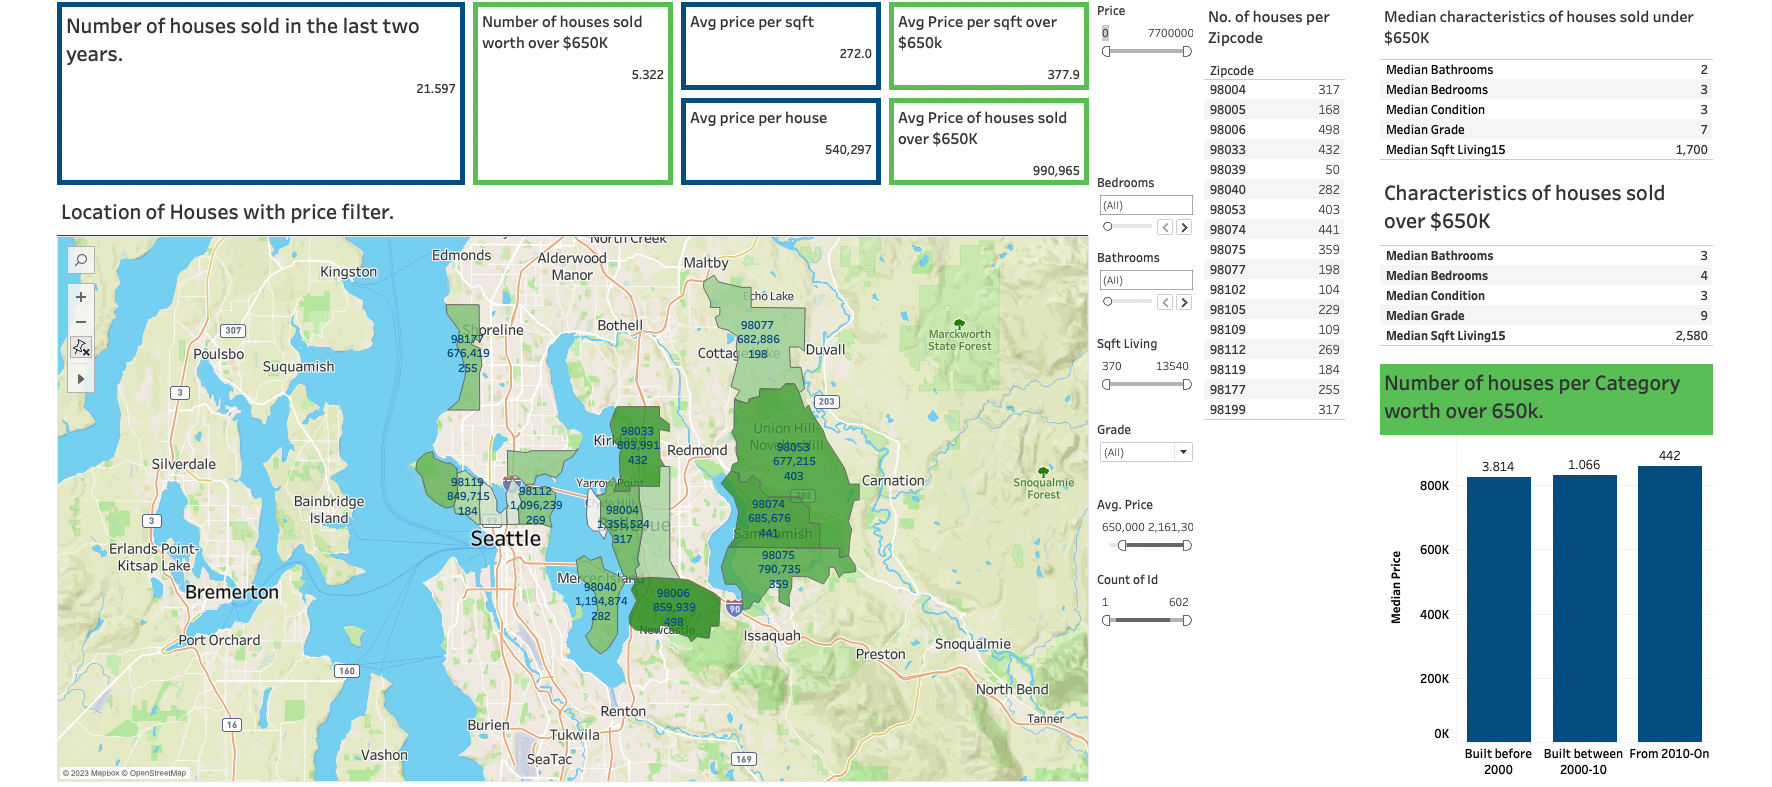

The dashboard page shown, as its layout file describes it:
{"tool":"tableau","page":{"name":"Dashboard 1","canvas":[1712,1988],"ordinal":0},"visuals":[{"type":"worksheet","title":"Sheet 22","mark":"Automatic","box":[8,8,416,191]},{"type":"worksheet","title":"Sheet 21","mark":"Automatic","box":[424,8,208,191]},{"type":"worksheet","title":"Avg price per sqft","mark":"Automatic","box":[631.9,8,208,96]},{"type":"worksheet","title":"Sheet 26","mark":"Automatic","box":[840,8,208,96]},{"type":"filter","title":"Locations of Houses worth over 650k with avg price per Zipcode.","param":"[federated.1hytt741uwrxpt18elqzm1fpk0h4].[none:price:qk]","box":[1048,8,107,172]},{"type":"worksheet","title":"Sheet 27","mark":"Automatic","rows":["zipcode"],"box":[1155,8,176,788]},{"type":"worksheet","title":"Sheet 25","mark":"Automatic","box":[1331,8,341,166]},{"type":"highlighter","title":"Locations of Houses worth over 650k with avg price per Zipcode.","param":"[federated.1hytt741uwrxpt18elqzm1fpk0h4].[none:condition:ok]","box":[1672,8,32,52]},{"type":"worksheet","title":"Avg Price.","mark":"Automatic","box":[631.9,104,208,95]},{"type":"worksheet","title":"Sheet 23","mark":"Automatic","box":[840,104,208,95]},{"type":"filter","title":"Locations of Houses worth over 650k with avg price per Zipcode.","param":"[federated.1hytt741uwrxpt18elqzm1fpk0h4].[none:bedrooms:ok]","box":[1048,180,107,75]},{"type":"worksheet","title":"Sheet 24","mark":"Automatic","box":[1331,180,341,190]},{"type":"worksheet","title":"Locations of Houses worth over 650k with avg price per Zipcode.","mark":"Multipolygon","box":[8,199,1040,597]},{"type":"filter","title":"Locations of Houses worth over 650k with avg price per Zipcode.","param":"[federated.1hytt741uwrxpt18elqzm1fpk0h4].[none:bathrooms:ok]","box":[1048,255,107,86]},{"type":"filter","title":"Locations of Houses worth over 650k with avg price per Zipcode.","param":"[federated.1hytt741uwrxpt18elqzm1fpk0h4].[none:sqft_living:qk]","box":[1048,341,107,86]},{"type":"worksheet","title":"Number of houses per Category worth over 650k.","mark":"Automatic","rows":["price"],"cols":["Calculation_5685301994961215489"],"box":[1331,370,341,426]},{"type":"filter","title":"Locations of Houses worth over 650k with avg price per Zipcode.","param":"[federated.1hytt741uwrxpt18elqzm1fpk0h4].[none:grade:ok]","box":[1048,427,107,75]},{"type":"filter","title":"Locations of Houses worth over 650k with avg price per Zipcode.","param":"[federated.1hytt741uwrxpt18elqzm1fpk0h4].[avg:price:qk]","box":[1048,502,107,75]},{"type":"filter","title":"Locations of Houses worth over 650k with avg price per Zipcode.","param":"[federated.1hytt741uwrxpt18elqzm1fpk0h4].[cnt:id:qk]","box":[1048,577,107,219]},{"type":"worksheet","title":"Avg Price Vs","mark":"Bar","rows":["price"],"cols":["Calculation_5685301995647258627"],"box":[8,796,831.9,596]},{"type":"worksheet","title":"Price correlation Vs","mark":"Automatic","rows":["Calculation_5685301995655569413"],"cols":["price"],"box":[839.9,796,832.1,596]},{"type":"parameter","param":"[Parameters].[Parameter 1]","box":[272,807,160,29]},{"type":"parameter","param":"[Parameters].[Parameter 2]","box":[1035,809,160,44]},{"type":"worksheet","title":"Most sold no of bedroom","mark":"Automatic","rows":["id"],"cols":["bedrooms"],"box":[8,1392,832,588]},{"type":"worksheet","title":"House price trend on year built (only 3 or 4 bedrooms)","mark":"Automatic","rows":["price"],"cols":["yr_built"],"box":[840,1392,832,588]},{"type":"text","box":[411,1436,416,52]}]}

Visuals, with their boxes on the page's 1712x1988 design canvas (x1, y1, x2, y2). These are canvas units, not pixel positions in the 1772x787 screenshot, which may show the page scaled, cropped or inside an application window:
"Sheet 22" worksheet: [left=8, top=8, right=424, bottom=199]
"Sheet 21" worksheet: [left=424, top=8, right=632, bottom=199]
"Avg price per sqft" worksheet: [left=632, top=8, right=840, bottom=104]
"Sheet 26" worksheet: [left=840, top=8, right=1048, bottom=104]
"Locations of Houses worth over 650k with avg price per Zipcode." filter: [left=1048, top=8, right=1155, bottom=180]
"Sheet 27" worksheet: [left=1155, top=8, right=1331, bottom=796]
"Sheet 25" worksheet: [left=1331, top=8, right=1672, bottom=174]
"Locations of Houses worth over 650k with avg price per Zipcode." highlighter: [left=1672, top=8, right=1704, bottom=60]
"Avg Price." worksheet: [left=632, top=104, right=840, bottom=199]
"Sheet 23" worksheet: [left=840, top=104, right=1048, bottom=199]
"Locations of Houses worth over 650k with avg price per Zipcode." filter: [left=1048, top=180, right=1155, bottom=255]
"Sheet 24" worksheet: [left=1331, top=180, right=1672, bottom=370]
"Locations of Houses worth over 650k with avg price per Zipcode." worksheet (Multipolygon marks): [left=8, top=199, right=1048, bottom=796]
"Locations of Houses worth over 650k with avg price per Zipcode." filter: [left=1048, top=255, right=1155, bottom=341]
"Locations of Houses worth over 650k with avg price per Zipcode." filter: [left=1048, top=341, right=1155, bottom=427]
"Number of houses per Category worth over 650k." worksheet: [left=1331, top=370, right=1672, bottom=796]
"Locations of Houses worth over 650k with avg price per Zipcode." filter: [left=1048, top=427, right=1155, bottom=502]
"Locations of Houses worth over 650k with avg price per Zipcode." filter: [left=1048, top=502, right=1155, bottom=577]
"Locations of Houses worth over 650k with avg price per Zipcode." filter: [left=1048, top=577, right=1155, bottom=796]
"Avg Price Vs" worksheet (Bar marks): [left=8, top=796, right=840, bottom=1392]
"Price correlation Vs" worksheet: [left=840, top=796, right=1672, bottom=1392]
parameter: [left=272, top=807, right=432, bottom=836]
parameter: [left=1035, top=809, right=1195, bottom=853]
"Most sold no of bedroom" worksheet: [left=8, top=1392, right=840, bottom=1980]
"House price trend on year built (only 3 or 4 bedrooms)" worksheet: [left=840, top=1392, right=1672, bottom=1980]
text: [left=411, top=1436, right=827, bottom=1488]
